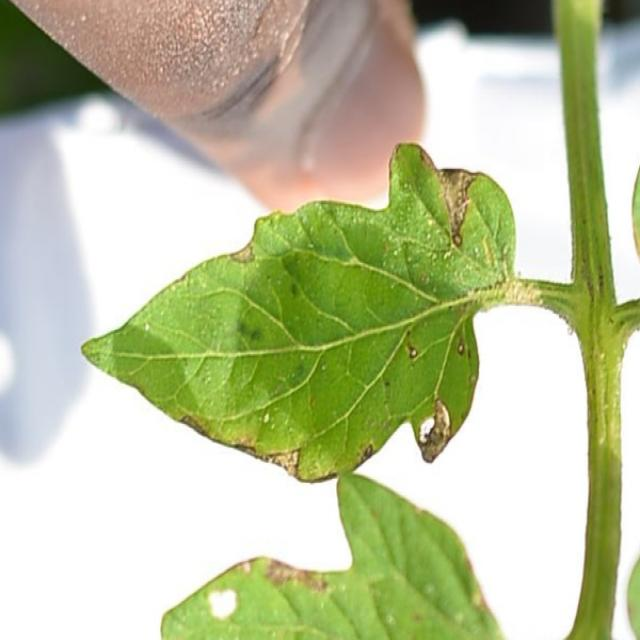infected: (170, 339, 512, 483), (190, 553, 336, 628), (408, 147, 497, 255), (209, 232, 272, 274)
